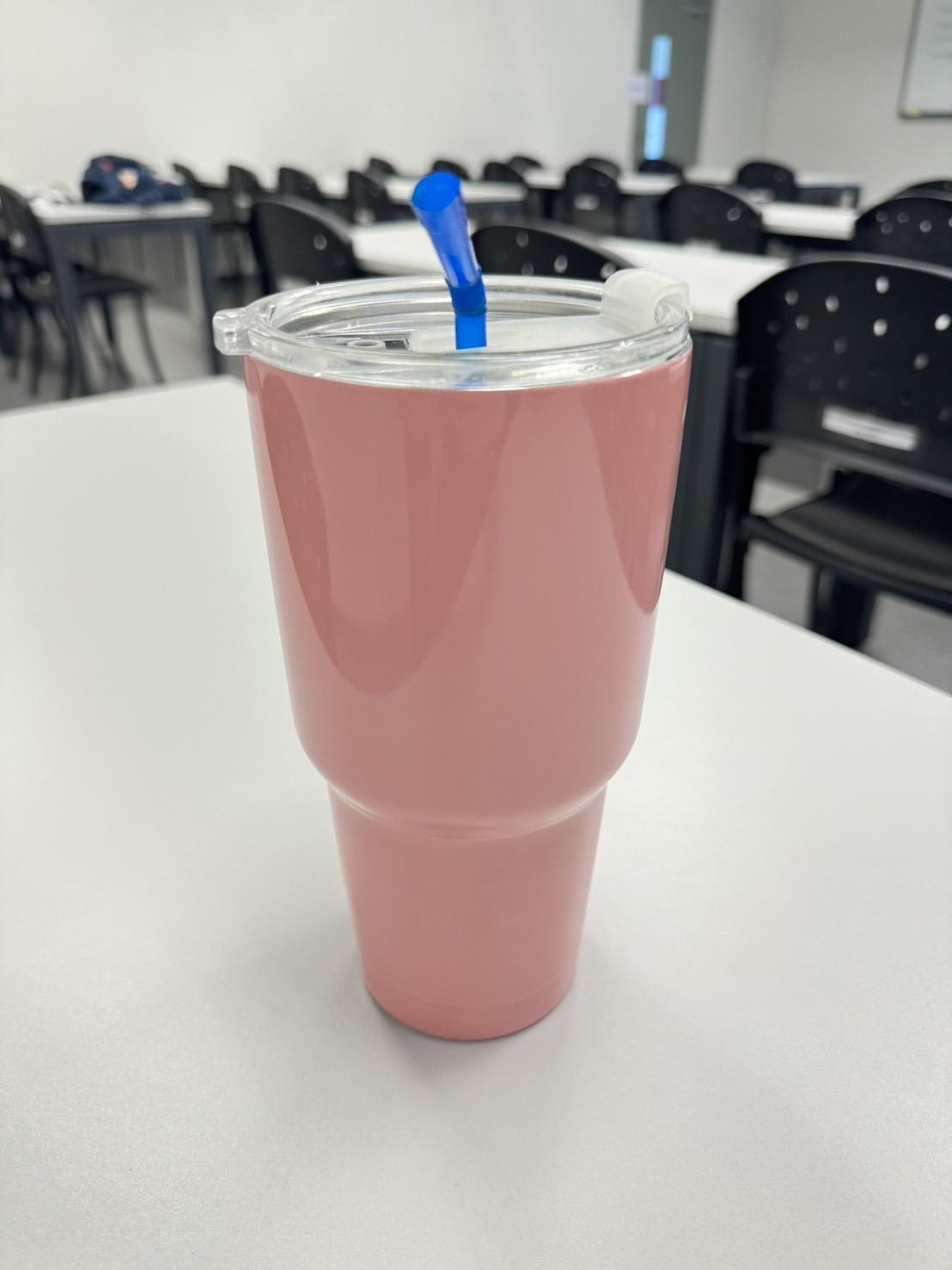cup: (215, 269, 690, 1039)
